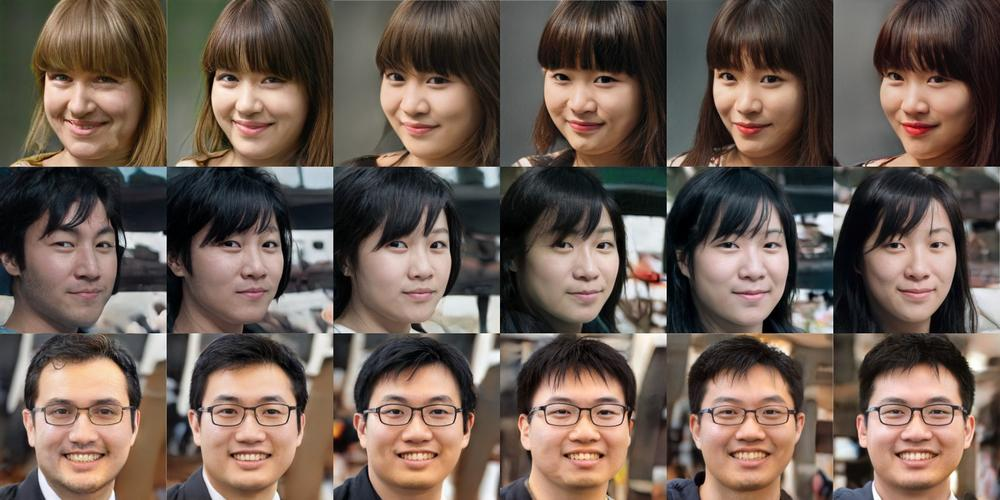nomask: (857, 338, 980, 496), (21, 339, 152, 485), (350, 177, 464, 326), (382, 14, 489, 157), (865, 191, 965, 317), (877, 40, 978, 160)
